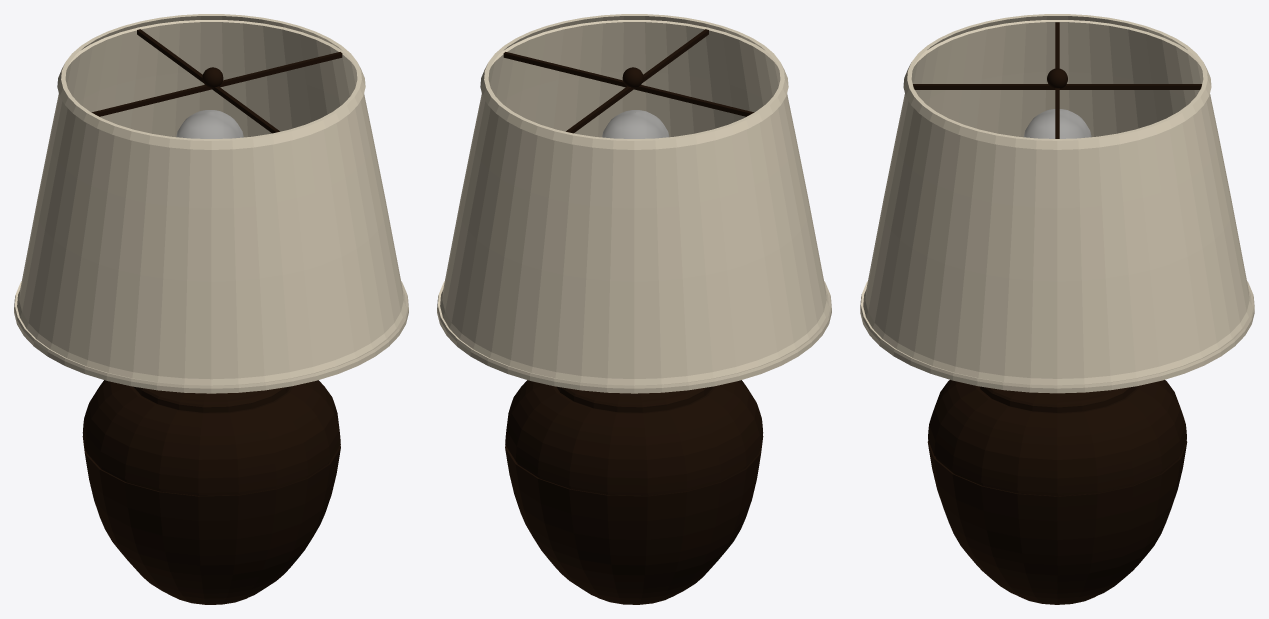
File: Lamp.fbx
The picture shows the model from 3 angles, left to right: view 1: azimuth 30°, elevation 25°; view 2: azimuth 150°, elevation 25°; view 3: azimuth 270°, elevation 25°; orthographic projection.
Parts seen in each view (by area): view 1: nurbsToPoly4, nurbsToPoly1, pCube1, nurbsToPoly2, pCube2; view 2: nurbsToPoly4, nurbsToPoly1, pCube1, nurbsToPoly2, pCube2; view 3: nurbsToPoly4, nurbsToPoly1, pCube2, nurbsToPoly2.
Boxes of the visible parts, bbox=[...] form: nurbsToPoly4: bbox=[14, 14, 408, 393]; nurbsToPoly1: bbox=[82, 380, 340, 604]; pCube1: bbox=[91, 52, 342, 116]; nurbsToPoly2: bbox=[176, 110, 243, 138]; pCube2: bbox=[137, 29, 279, 133]; nurbsToPoly4: bbox=[437, 14, 831, 393]; nurbsToPoly1: bbox=[505, 380, 763, 604]; pCube1: bbox=[503, 52, 754, 116]; nurbsToPoly2: bbox=[602, 110, 669, 138]; pCube2: bbox=[566, 29, 708, 133]; nurbsToPoly4: bbox=[860, 14, 1254, 393]; nurbsToPoly1: bbox=[927, 380, 1187, 604]; pCube2: bbox=[913, 84, 1201, 89]; nurbsToPoly2: bbox=[1024, 109, 1091, 138].
Size of the model in its own units: 4.86 by 7.02 by 4.86.
